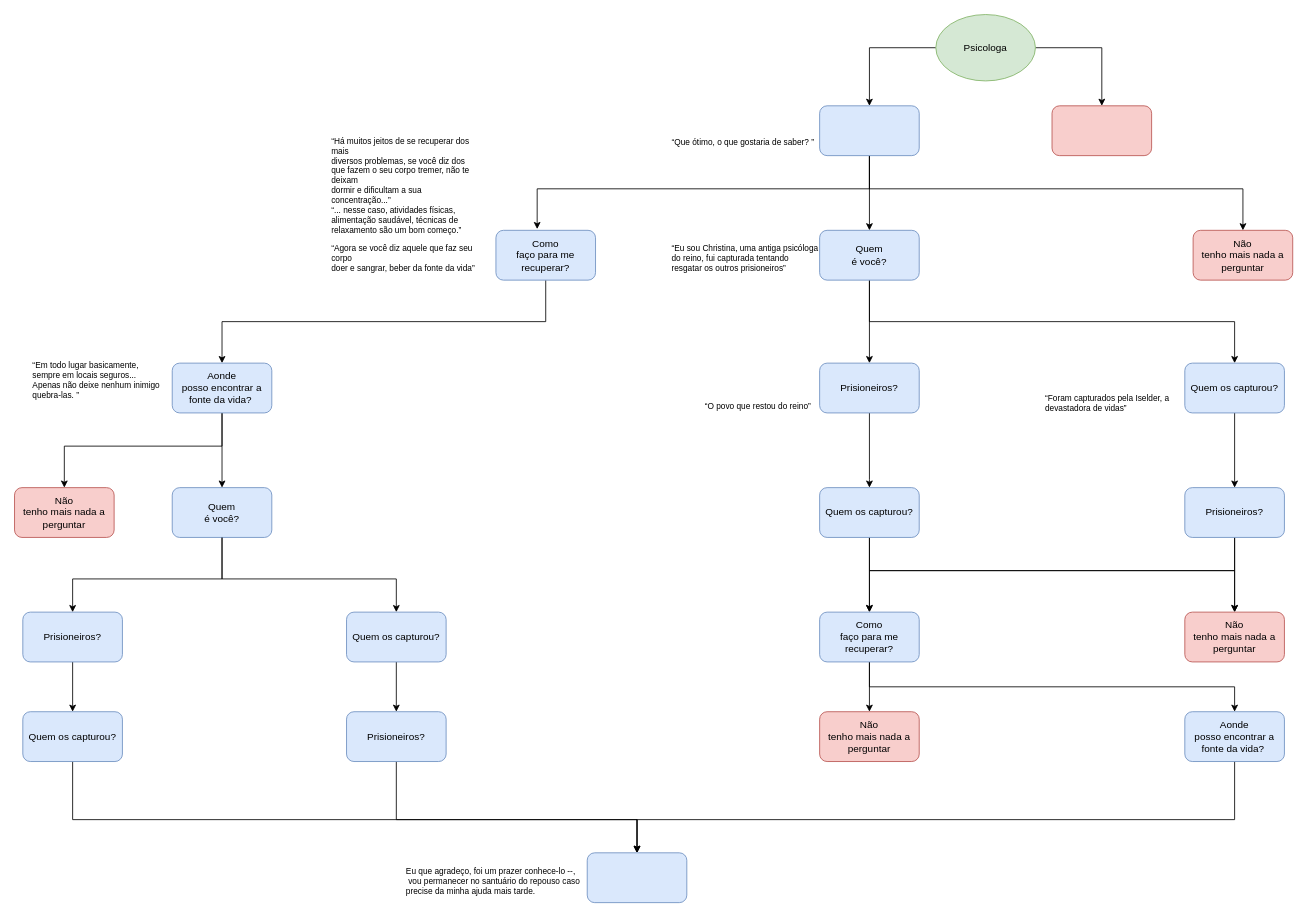
This 1307x917 diagram has some shape labels left out. Here are the shapes that lost their labels. From the top down, the centre of each, then its label:
At [869,130]: "Sim".
At [1101,130]: "Não".
At [636,877]: "Muito obrigado por tudo".
